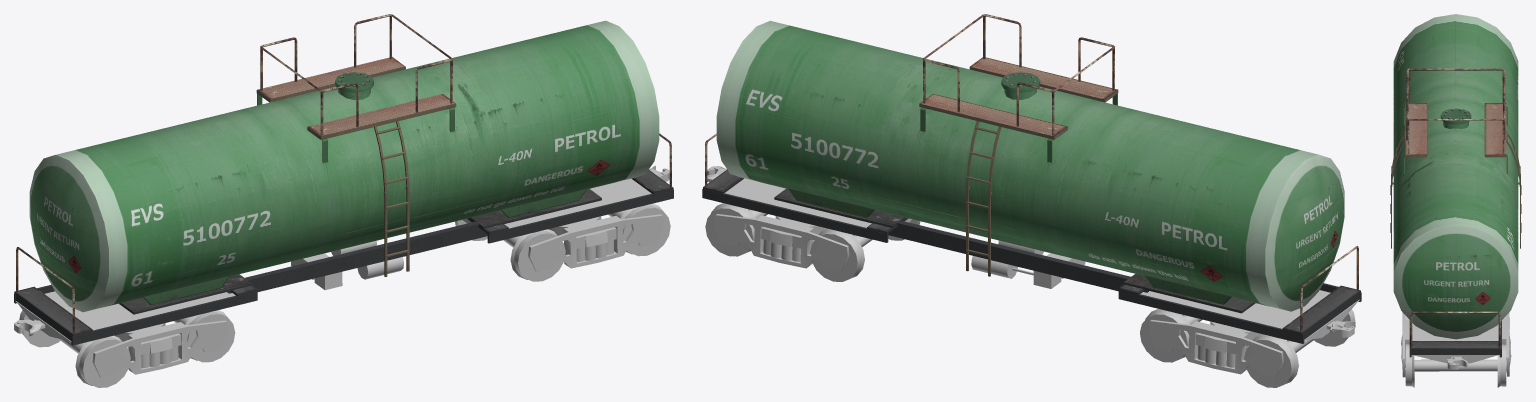
File: TrainTanker06.FBX
The picture shows the model from 3 angles, left to right: view 1: azimuth 30°, elevation 25°; view 2: azimuth 150°, elevation 25°; view 3: azimuth 270°, elevation 25°; orthographic projection. The views are drawn at different scales.
Visible parts, largest first — view 1: TrainTanker06, TrainTanker0Wheels, TrainTanker0DetailBlack, TrainTanker0Down; view 2: TrainTanker06, TrainTanker0Wheels, TrainTanker0DetailBlack, TrainTanker0Down; view 3: TrainTanker06, TrainTanker0Wheels, TrainTanker0DetailBlack, TrainTanker0Down.
Part boxes in pixels (x1,y1,x2,y2): TrainTanker06: [16, 14, 671, 333]; TrainTanker0Wheels: [19, 203, 670, 387]; TrainTanker0DetailBlack: [14, 170, 673, 345]; TrainTanker0Down: [14, 165, 669, 341]; TrainTanker06: [705, 14, 1358, 332]; TrainTanker0Wheels: [705, 203, 1355, 387]; TrainTanker0DetailBlack: [702, 169, 1361, 343]; TrainTanker0Down: [707, 166, 1359, 340]; TrainTanker06: [1390, 14, 1521, 348]; TrainTanker0Wheels: [1401, 312, 1511, 387]; TrainTanker0DetailBlack: [1409, 320, 1501, 357]; TrainTanker0Down: [1412, 323, 1498, 369].
Bounding box in the file's own units: 19420 × 7027 × 4327.
